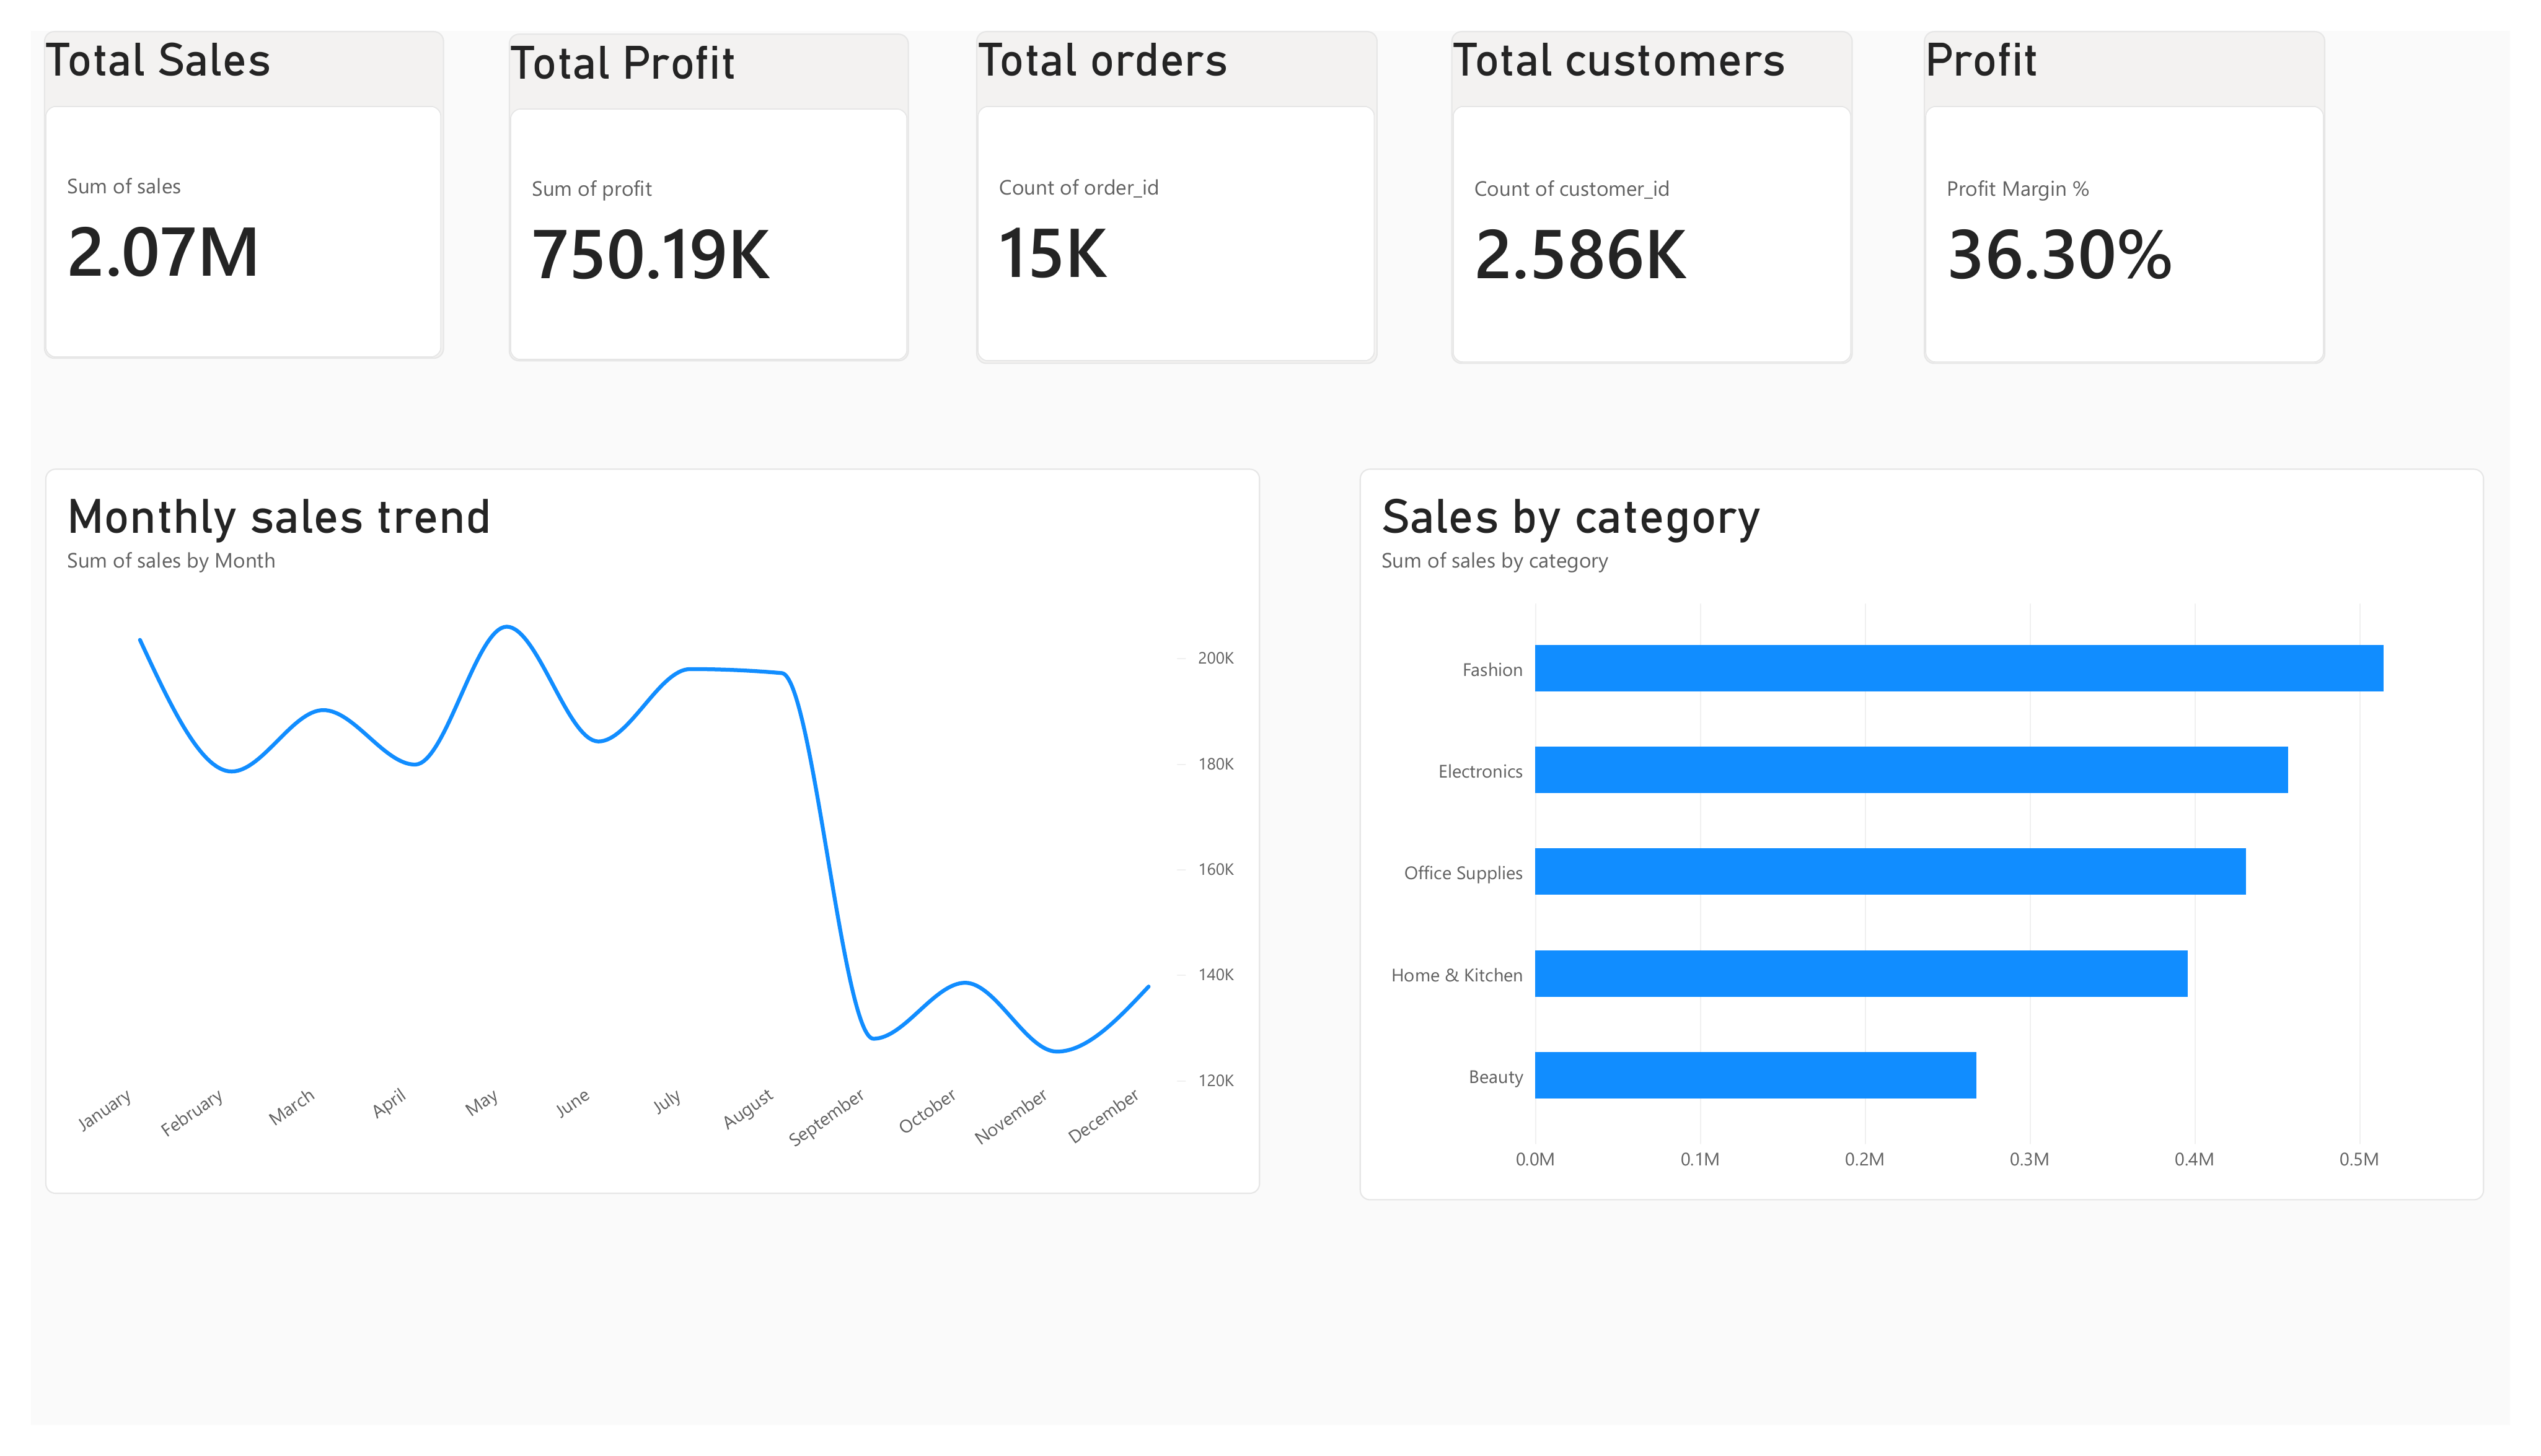

Layout of this report page (visuals, bound fields, positions):
{"tool":"powerbi","page":{"name":"Executive Overview","canvas":[1920,1080],"ordinal":0},"visuals":[{"type":"cardVisual","title":"Total Sales","fields":{"Data":["Sum(ecommerce_project sales.sales)"]},"box":[10.1,0,309.9,254.5],"z":0},{"type":"cardVisual","title":"Total Profit","fields":{"Data":["Sum(ecommerce_project sales.profit)"]},"box":[370.3,2.2,310,254],"z":1000},{"type":"cardVisual","title":"Total orders","fields":{"Data":["CountNonNull(ecommerce_project sales.order_id)"]},"box":[731.8,0,310.8,257.9],"z":2000},{"type":"cardVisual","title":"Total customers","fields":{"Data":["Count(ecommerce_project sales.customer_id)"]},"box":[1099.8,0,311,258],"z":3000},{"type":"cardVisual","title":"Profit ","fields":{"Data":["ecommerce_project sales.Profit Margin %"]},"box":[1465.7,0,311,258],"z":4000},{"type":"lineChart","title":"Monthly sales trend","fields":{"Y2":["Sum(ecommerce_project sales.sales)"],"Category":["ecommerce_project sales.order_date.Variation.Date Hierarchy.Month"]},"box":[11,339.4,941.1,562],"z":5000},{"type":"clusteredBarChart","title":"Sales by category","fields":{"Category":["ecommerce_project sales.category"],"Y":["Sum(ecommerce_project sales.sales)"]},"box":[1029.3,339.4,870.6,566.4],"z":6000}]}

Visuals, with their boxes on the page's 1920x1080 design canvas (x1, y1, x2, y2). These are canvas units, not pixel positions in the 2541x1456 screenshot, which may show the page scaled, cropped or inside an application window:
"Total Sales" cardVisual: 10 0 320 254
"Total Profit" cardVisual: 370 2 680 256
"Total orders" cardVisual: 732 0 1043 258
"Total customers" cardVisual: 1100 0 1411 258
"Profit " cardVisual: 1466 0 1777 258
"Monthly sales trend" lineChart: 11 339 952 901
"Sales by category" clusteredBarChart: 1029 339 1900 906
